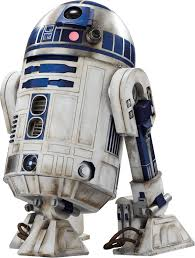r2d2: (1, 1, 194, 256)
